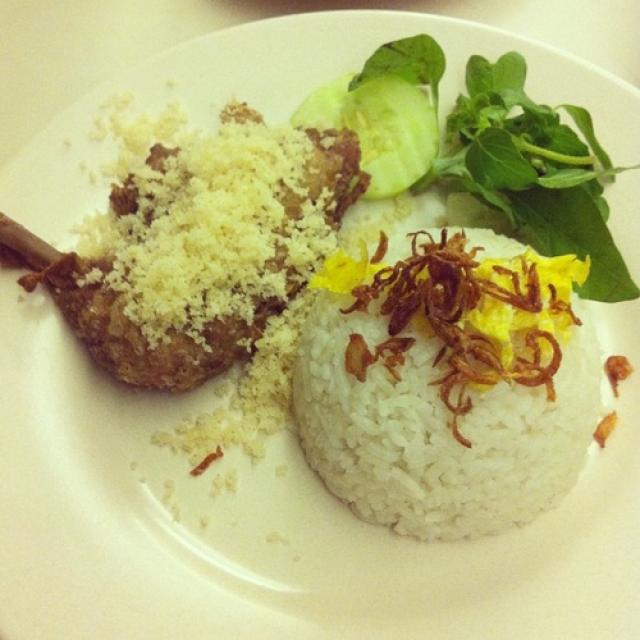米饭主食: (19, 15, 616, 608)
